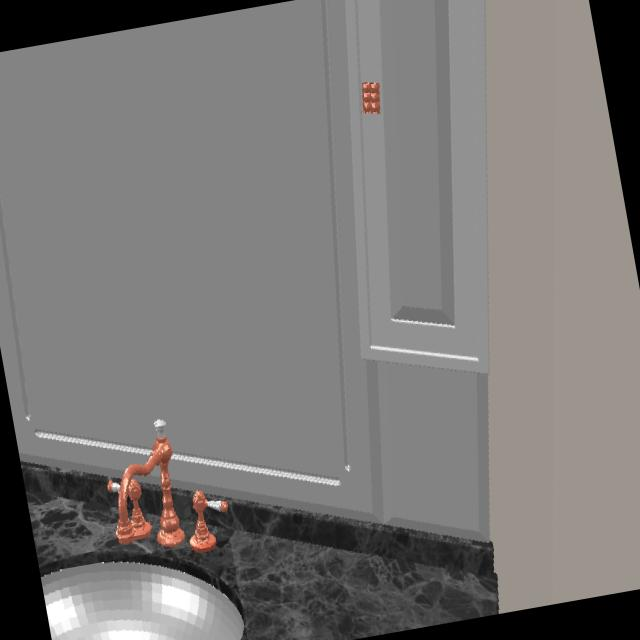washbasin: (40, 560, 246, 640)
